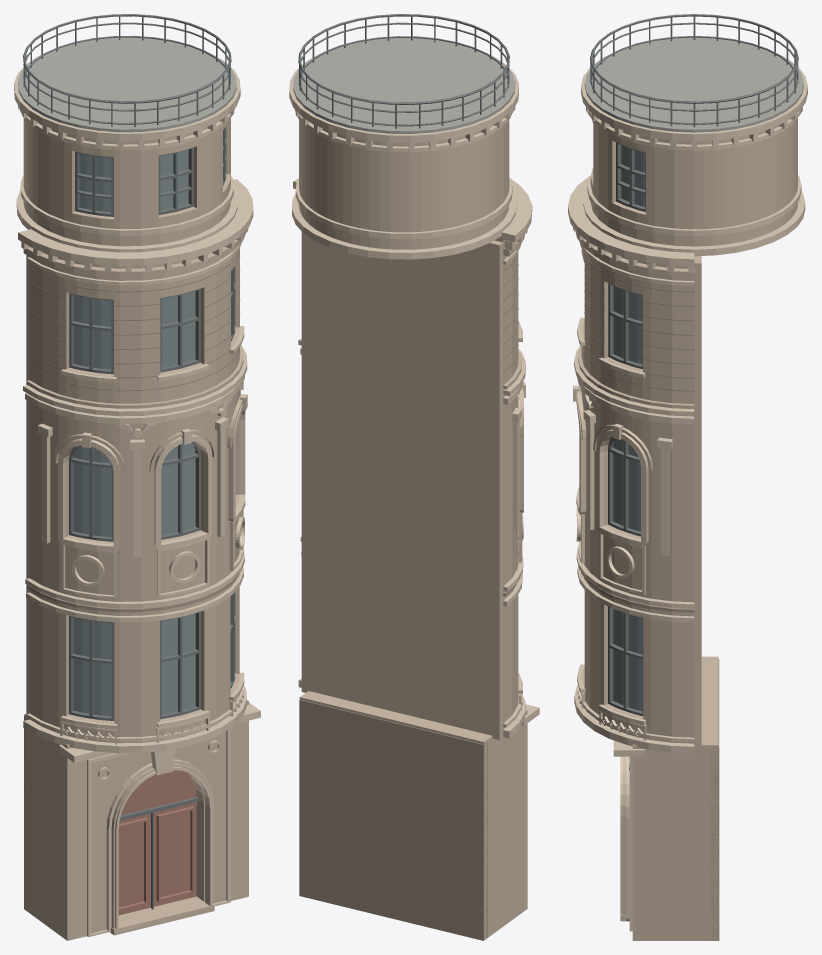
File: huangpu-mitsubishi-trading-house-round-corner-lod.glb
3 renders of one model, left to right at view 1: azimuth 30°, elevation 25°; view 2: azimuth 150°, elevation 25°; view 3: azimuth 270°, elevation 25°, orthographic.
Parts seen in each view (by area): view 1: 广东路102号三菱洋行西南圆塔与拱门; view 2: 广东路102号三菱洋行西南圆塔与拱门; view 3: 广东路102号三菱洋行西南圆塔与拱门.
Boxes of the visible parts, <box> form: 广东路102号三菱洋行西南圆塔与拱门: <box>14,14,260,940</box>; 广东路102号三菱洋行西南圆塔与拱门: <box>289,14,539,940</box>; 广东路102号三菱洋行西南圆塔与拱门: <box>568,14,807,940</box>.
Bounding box in the file's own units: 5.88 × 21.52 × 5.58.
